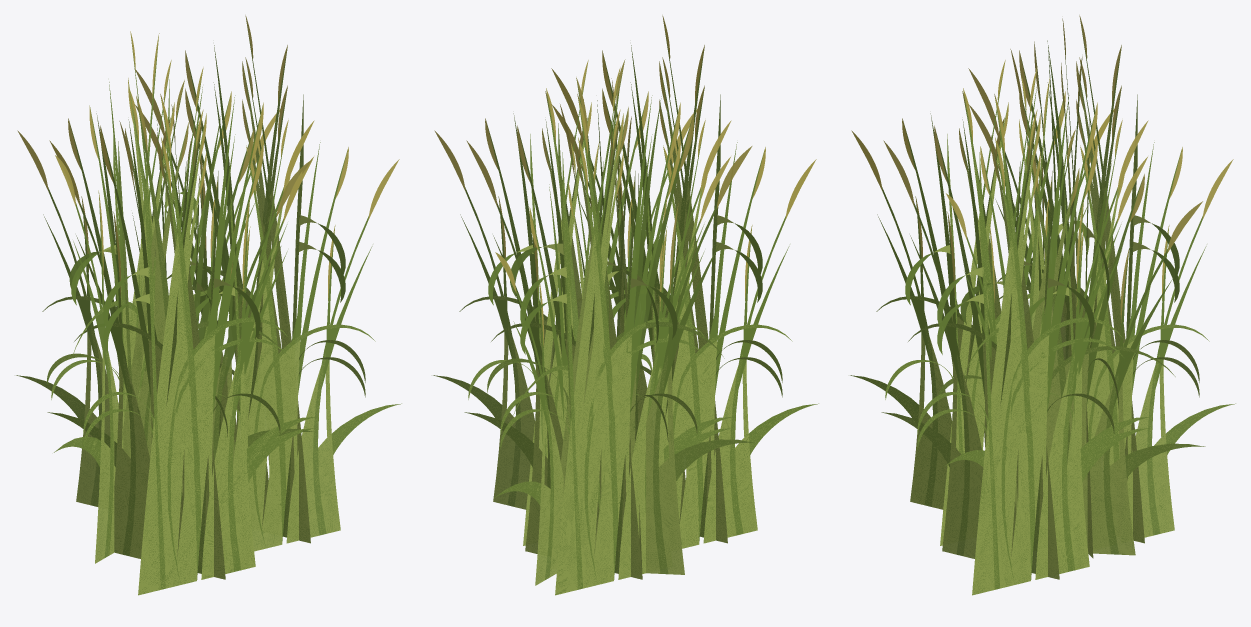
Rendered from tallGrass.dae.
The picture shows the model from 3 angles, left to right: view 1: azimuth 30°, elevation 25°; view 2: azimuth 150°, elevation 25°; view 3: azimuth 270°, elevation 25°; orthographic projection.
Visible parts, largest first — view 1: group_1 (×18), group_3 (×13), group_2 (×11), group_4 (×9), group_13 (×6), group_15 (×5); view 2: group_1 (×14), group_3 (×15), group_2 (×10), group_13 (×9), group_4 (×11), group_14 (×4); view 3: group_1 (×16), group_3 (×16), group_2 (×11), group_4 (×13), group_14 (×8), group_15 (×2), group_13.
Boxes of the visible parts, x1,y1,x2,y2 form: group_1 (×18): (138, 45, 316, 595); group_3 (×13): (16, 121, 401, 551); group_2 (×11): (145, 88, 315, 589); group_4 (×9): (74, 110, 225, 579); group_13 (×6): (72, 37, 158, 563); group_15 (×5): (118, 98, 283, 501); group_1 (×14): (555, 49, 733, 595); group_3 (×15): (433, 113, 818, 548); group_2 (×10): (562, 133, 726, 588); group_13 (×9): (558, 78, 753, 574); group_4 (×11): (464, 91, 647, 579); group_14 (×4): (535, 184, 568, 585); group_1 (×16): (972, 45, 1150, 594); group_3 (×16): (850, 113, 1235, 537); group_2 (×11): (972, 134, 1149, 595); group_4 (×13): (881, 91, 1059, 579); group_14 (×8): (1027, 145, 1205, 555); group_15 (×2): (963, 79, 1049, 377); group_13: (1024, 59, 1082, 359).
Bounding box in the file's own units: 34.96 × 34.87 × 50.81.
